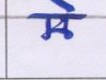e_matra: (52, 0, 77, 12)
